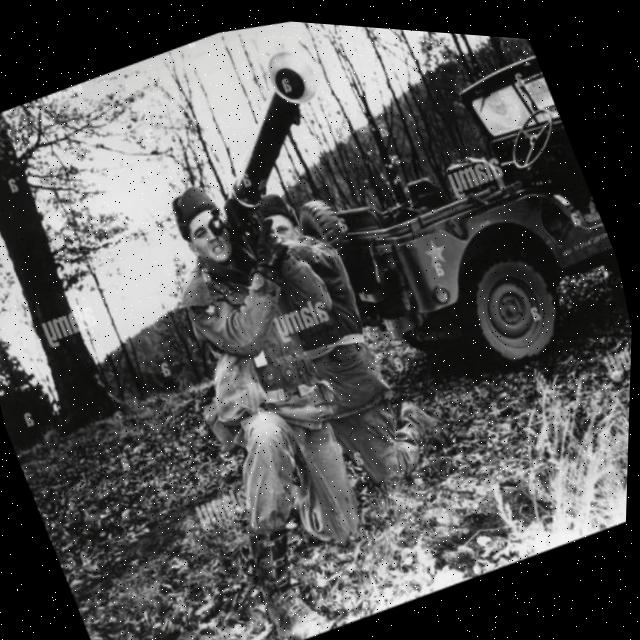rocket: (169, 23, 355, 236)
